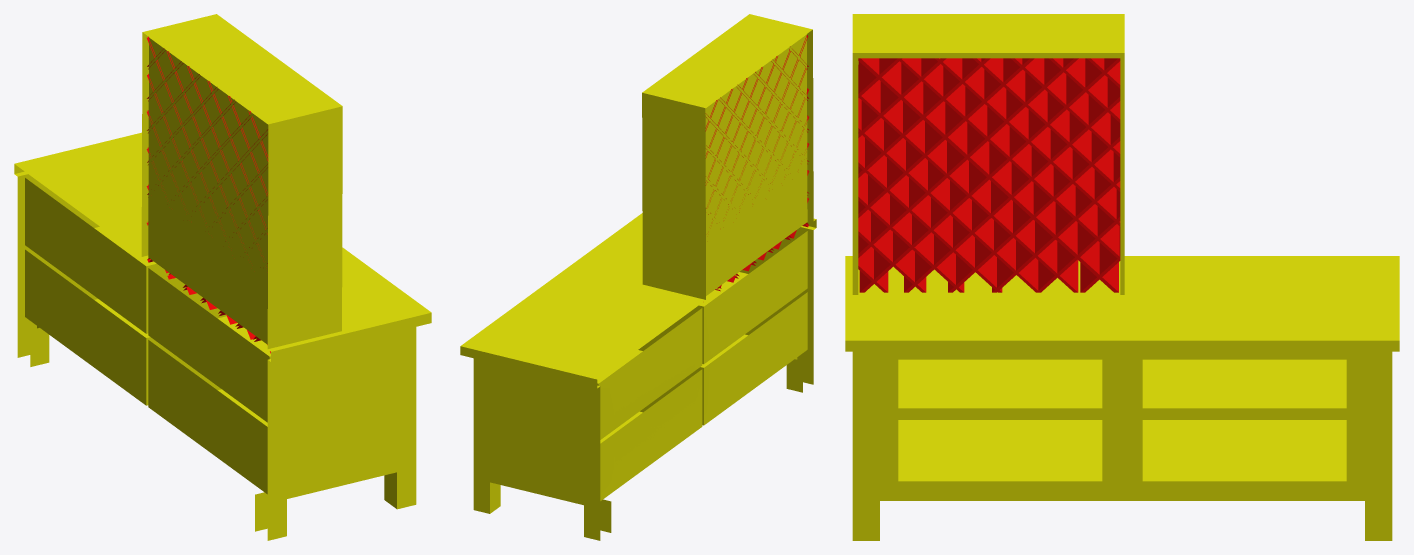
The model's file is DB_Furniture.fbx.
3 renders of one model, left to right at view 1: azimuth 30°, elevation 25°; view 2: azimuth 150°, elevation 25°; view 3: azimuth 270°, elevation 25°, orthographic. The views are drawn at different scales.
Visible parts, largest first — view 1: Body, Bottle_Cases; view 2: Body, Bottle_Cases; view 3: Body, Bottle_Cases.
Boxes of the visible parts, x1,y1,x2,y2 form: Body: (14, 14, 431, 540); Bottle_Cases: (146, 36, 270, 353); Body: (460, 14, 816, 540); Bottle_Cases: (705, 35, 809, 291); Body: (845, 14, 1399, 540); Bottle_Cases: (858, 58, 1120, 292).
Size of the model in its own units: 0.7424 by 1.84 by 2.06.
